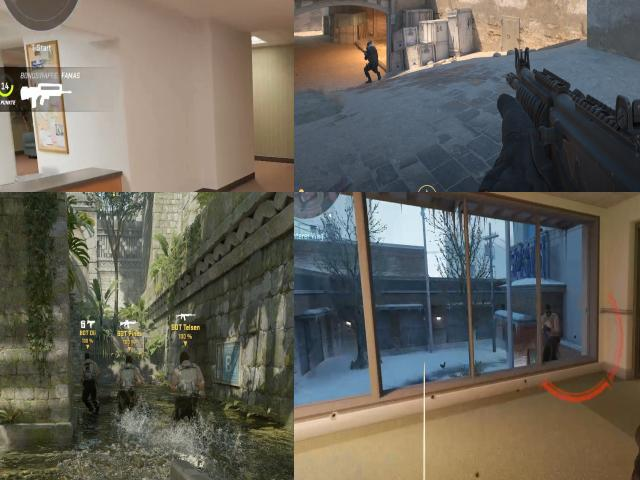Bomb: (83, 358, 92, 376)
CT: (364, 38, 378, 79)
CT-Head: (367, 39, 372, 47)
T: (168, 347, 204, 442), (113, 352, 145, 438), (79, 349, 100, 424), (542, 300, 562, 347)
T-Head: (178, 350, 193, 369), (542, 303, 556, 321), (122, 354, 136, 368), (81, 350, 94, 362)
